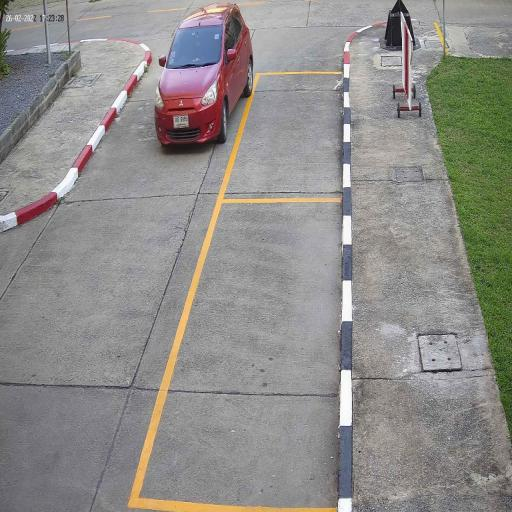car: (152, 4, 256, 150)
